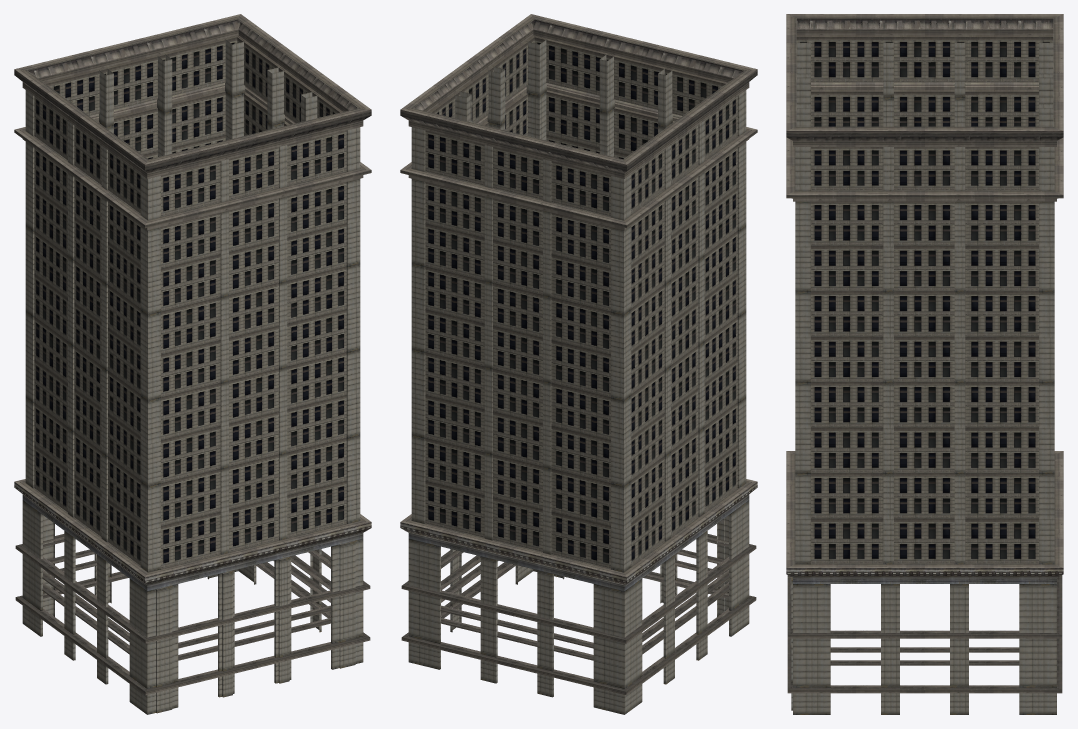
The model's file is downtown_modernoffice_5_downtown_facade_flr_4_0_lev3.glb.
3 views of the same model, side by side, from view 1: azimuth 30°, elevation 25°; view 2: azimuth 150°, elevation 25°; view 3: azimuth 270°, elevation 25° (orthographic). The views are drawn at different scales.
Visible parts, largest first — view 1: downtown_modernoffice_5_downtown_facade_flr_4_0_lev3; view 2: downtown_modernoffice_5_downtown_facade_flr_4_0_lev3; view 3: downtown_modernoffice_5_downtown_facade_flr_4_0_lev3.
Part boxes in pixels (x1,y1,x2,y2): downtown_modernoffice_5_downtown_facade_flr_4_0_lev3: (14,14,371,714); downtown_modernoffice_5_downtown_facade_flr_4_0_lev3: (400,14,757,714); downtown_modernoffice_5_downtown_facade_flr_4_0_lev3: (786,14,1063,714).
Bounding box in the file's own units: 23.09 × 53.94 × 23.09.
1 material, 1 textured.
